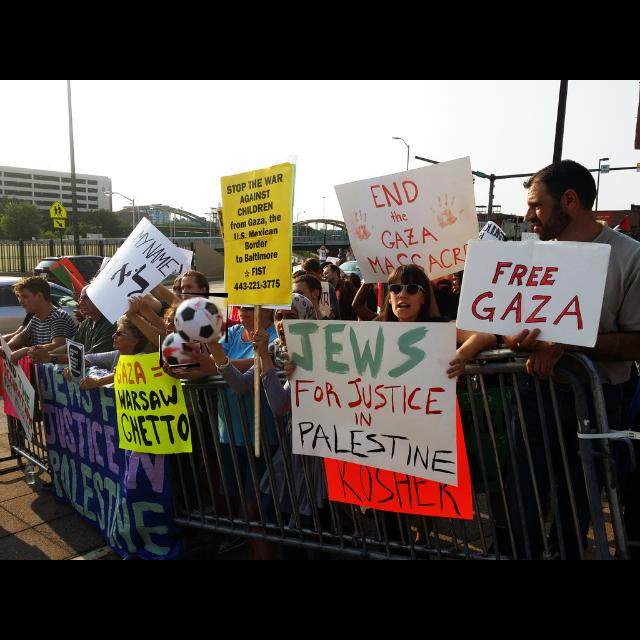Football: (174, 293, 228, 343), (160, 331, 200, 367)
